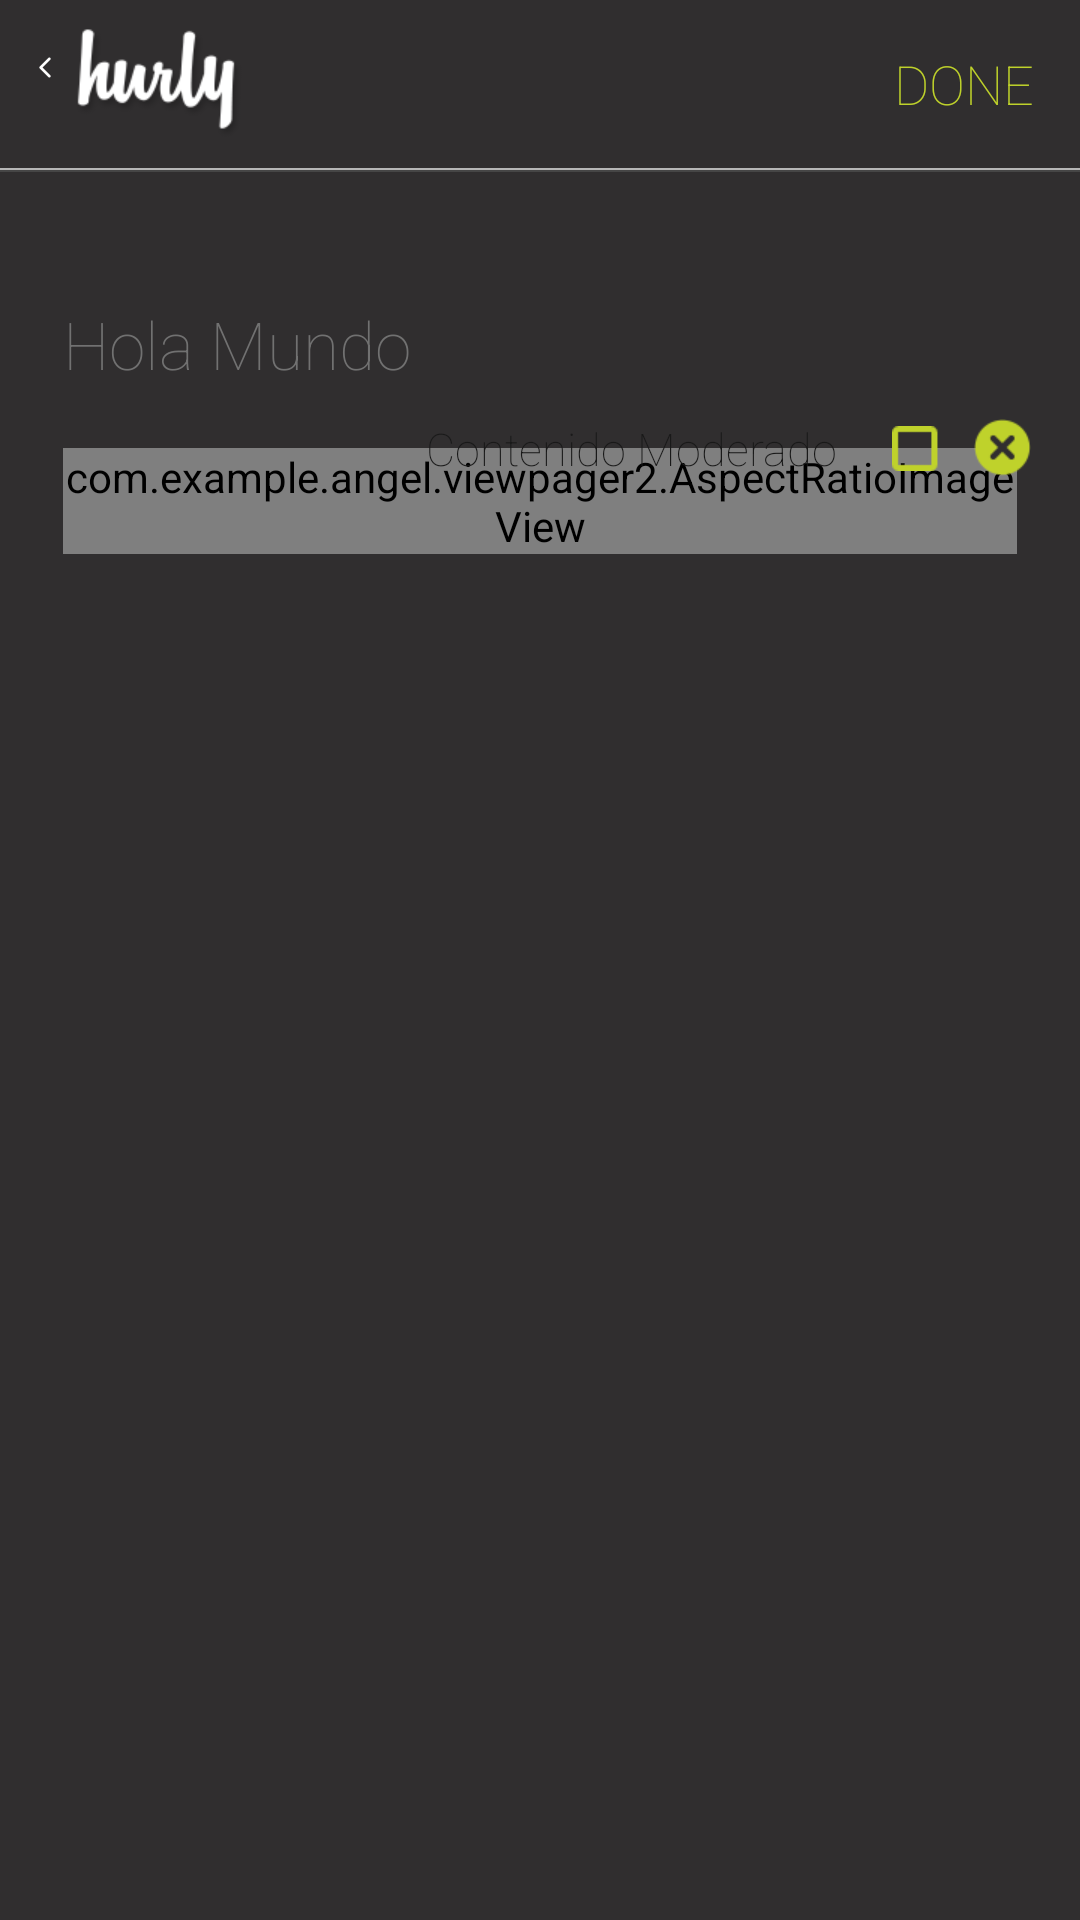

Point at icon controls on the screen. Image size 1080*1920, points as (x=x, y=y).
unchecked box: (x=918, y=448)
